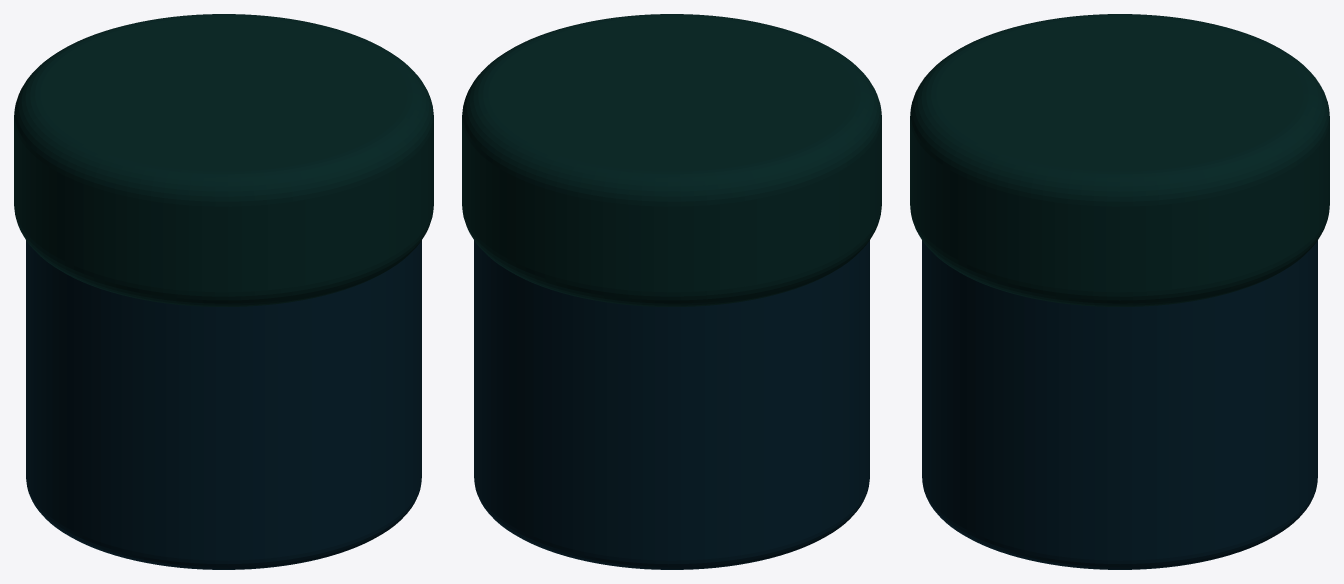
Rendered from CircleSofa.fbx.
The picture shows the model from 3 angles, left to right: view 1: azimuth 30°, elevation 25°; view 2: azimuth 150°, elevation 25°; view 3: azimuth 270°, elevation 25°; orthographic projection.
Parts seen in each view (by area): view 1: 円柱.001, 円柱; view 2: 円柱.001, 円柱; view 3: 円柱.001, 円柱.
Part boxes in pixels (x1,y1,x2,y2): 円柱.001: [14, 14, 433, 306]; 円柱: [26, 240, 421, 569]; 円柱.001: [462, 14, 881, 306]; 円柱: [474, 240, 869, 569]; 円柱.001: [910, 14, 1329, 306]; 円柱: [922, 240, 1317, 569].
Size of the model in its own units: 2.55 by 2.66 by 2.55.
